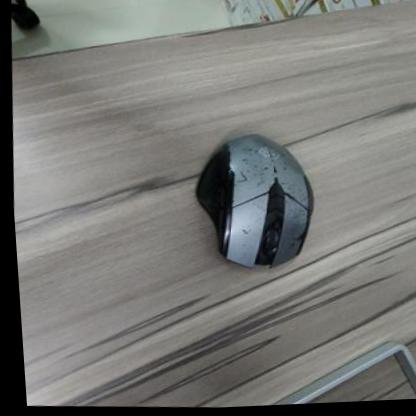mouserotation: (185, 130, 320, 276)
